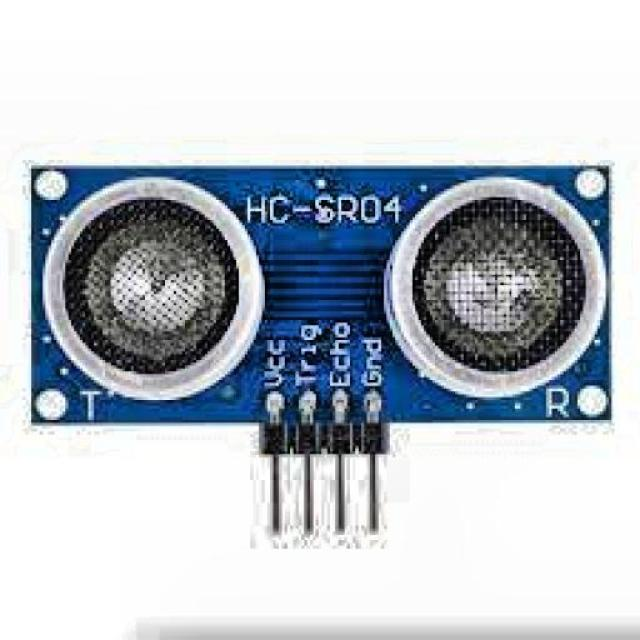Ultrasonic Sensor: (12, 137, 628, 553)
